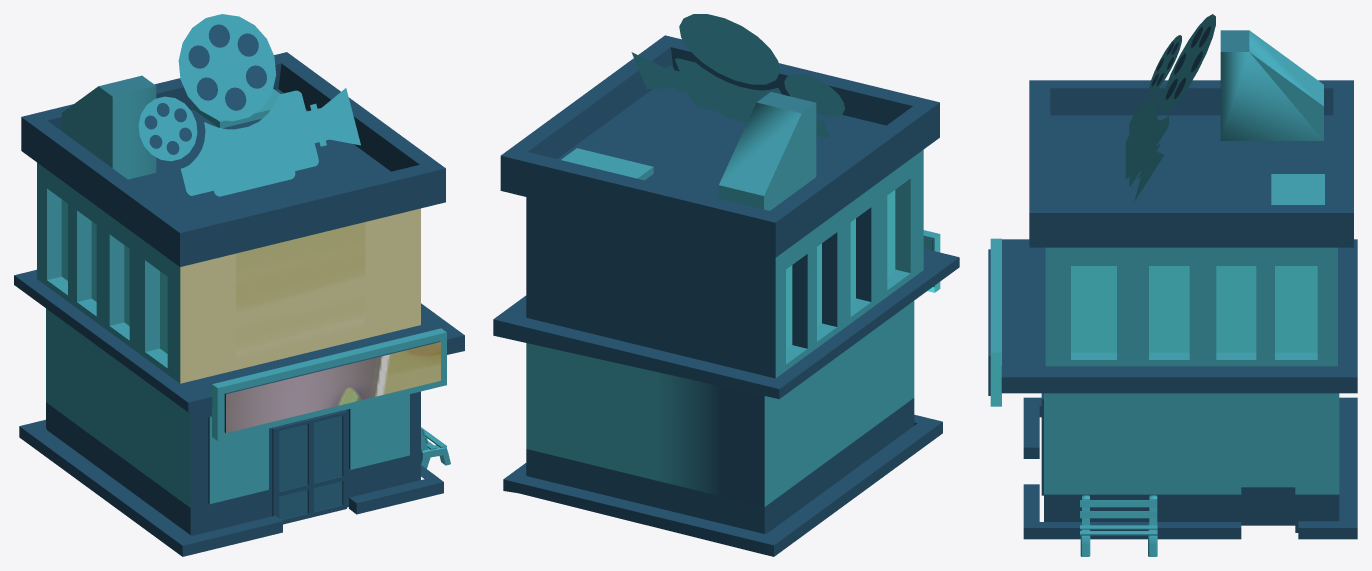
File: Play_Place_LV3.FBX
3 renders of one model, left to right at view 1: azimuth 30°, elevation 25°; view 2: azimuth 150°, elevation 25°; view 3: azimuth 270°, elevation 25°, orthographic. The views are drawn at different scales.
Parts seen in each view (by area): view 1: Play_Place; view 2: Play_Place; view 3: Play_Place.
Part boxes in pixels (bbox=[...]): Play_Place: bbox=[14, 14, 464, 556]; Play_Place: bbox=[493, 14, 959, 556]; Play_Place: bbox=[988, 14, 1357, 556].
Size of the model in its own units: 12.48 by 17.47 by 12.94.
